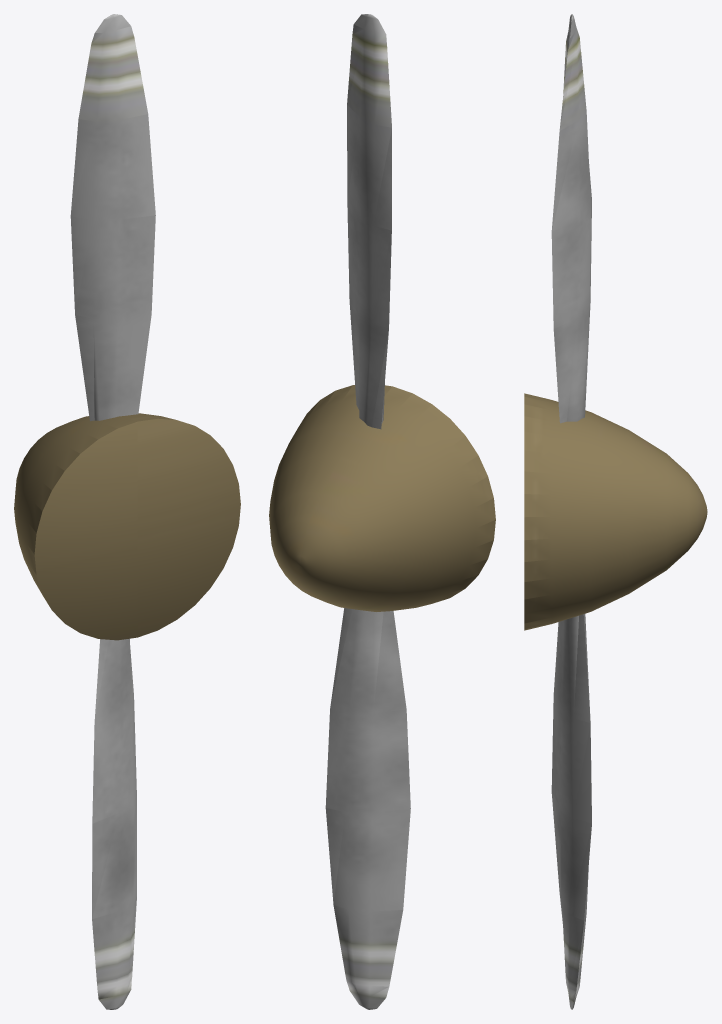
Rendered from propeller.obj.
3 renders of one model, left to right at view 1: azimuth 30°, elevation 25°; view 2: azimuth 150°, elevation 25°; view 3: azimuth 270°, elevation 25°, orthographic.
Visible parts, largest first — view 1: helice_helice.mesh, bol_bol.mesh; view 2: helice_helice.mesh, bol_bol.mesh; view 3: bol_bol.mesh, helice_helice.mesh.
Boxes of the visible parts, bbox=[...] form: helice_helice.mesh: bbox=[70, 14, 155, 1009]; bol_bol.mesh: bbox=[14, 413, 240, 640]; helice_helice.mesh: bbox=[325, 14, 410, 1009]; bol_bol.mesh: bbox=[269, 385, 495, 611]; bol_bol.mesh: bbox=[524, 393, 707, 630]; helice_helice.mesh: bbox=[551, 14, 591, 1009].
Bounding box in the file's own units: 0.3448 × 1.59 × 0.2659.
1 material, 1 textured.
